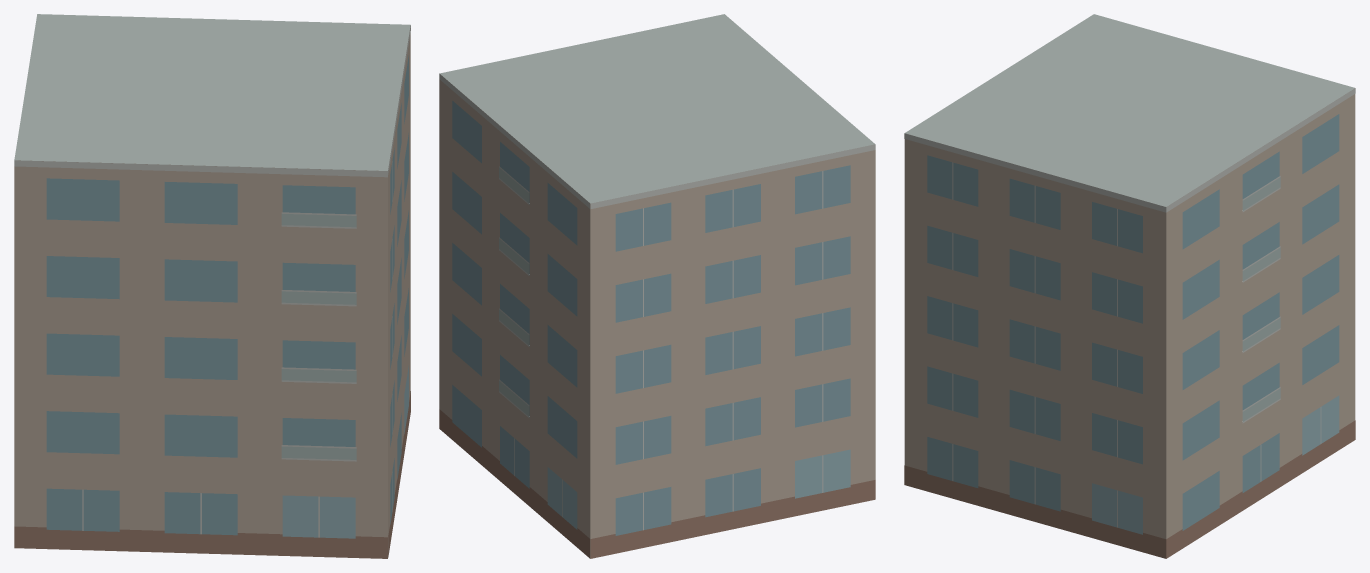
File: survey-upis-32753705.glb
The picture shows the model from 3 angles, left to right: view 1: azimuth 30°, elevation 25°; view 2: azimuth 150°, elevation 25°; view 3: azimuth 270°, elevation 25°; orthographic projection. The views are drawn at different scales.
Parts seen in each view (by area): view 1: survey-upis-32753705.tmp; view 2: survey-upis-32753705.tmp; view 3: survey-upis-32753705.tmp.
Boxes of the visible parts, x1,y1,x2,y2 form: survey-upis-32753705.tmp: (14,14,410,558); survey-upis-32753705.tmp: (439,14,875,558); survey-upis-32753705.tmp: (904,14,1355,558).
Size of the model in its own units: 17.96 by 15.25 by 17.73.
